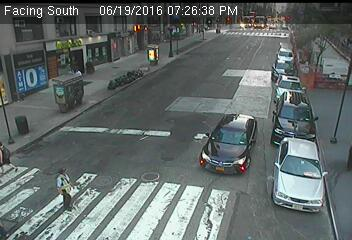neg: (48, 80, 69, 107), (96, 73, 116, 101), (295, 59, 315, 86), (143, 37, 162, 63), (82, 56, 97, 75)
pos: (43, 164, 81, 215)
